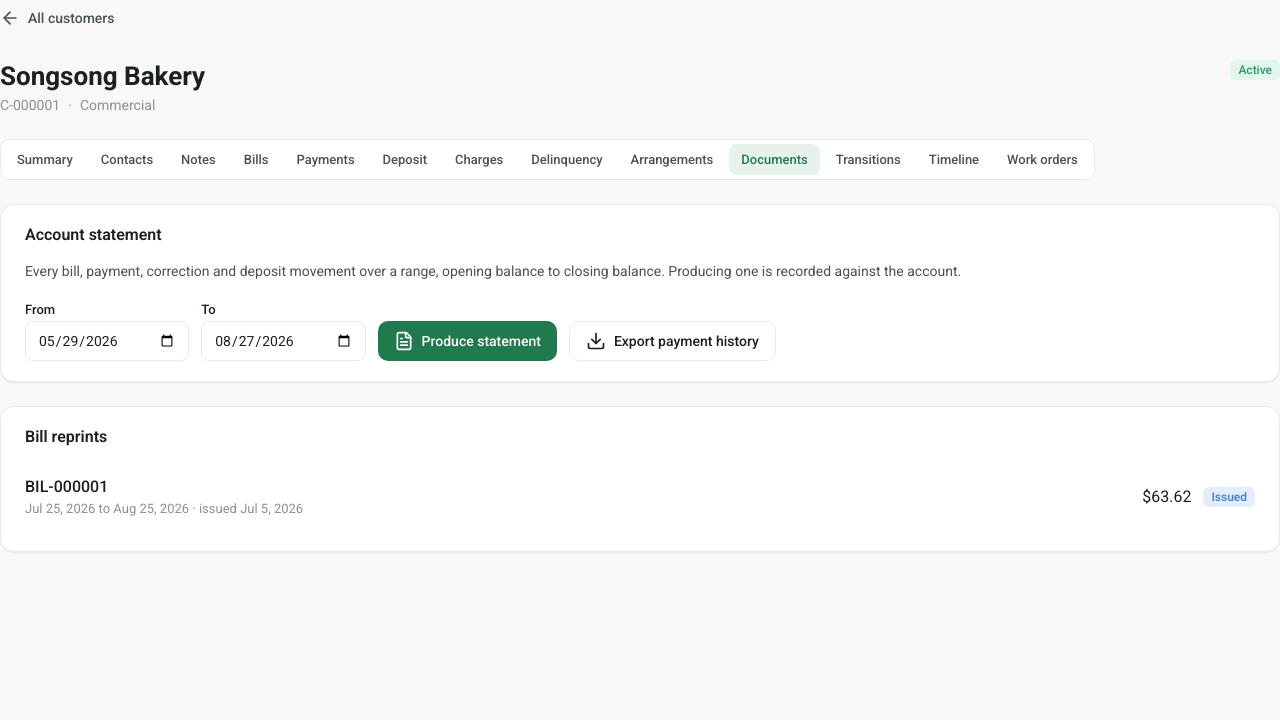
Scenario: the documents tab › says so, loudly, when a statement does not add up
Click the button "Produce statement".
click(467, 341)  # box [378,321,557,361]
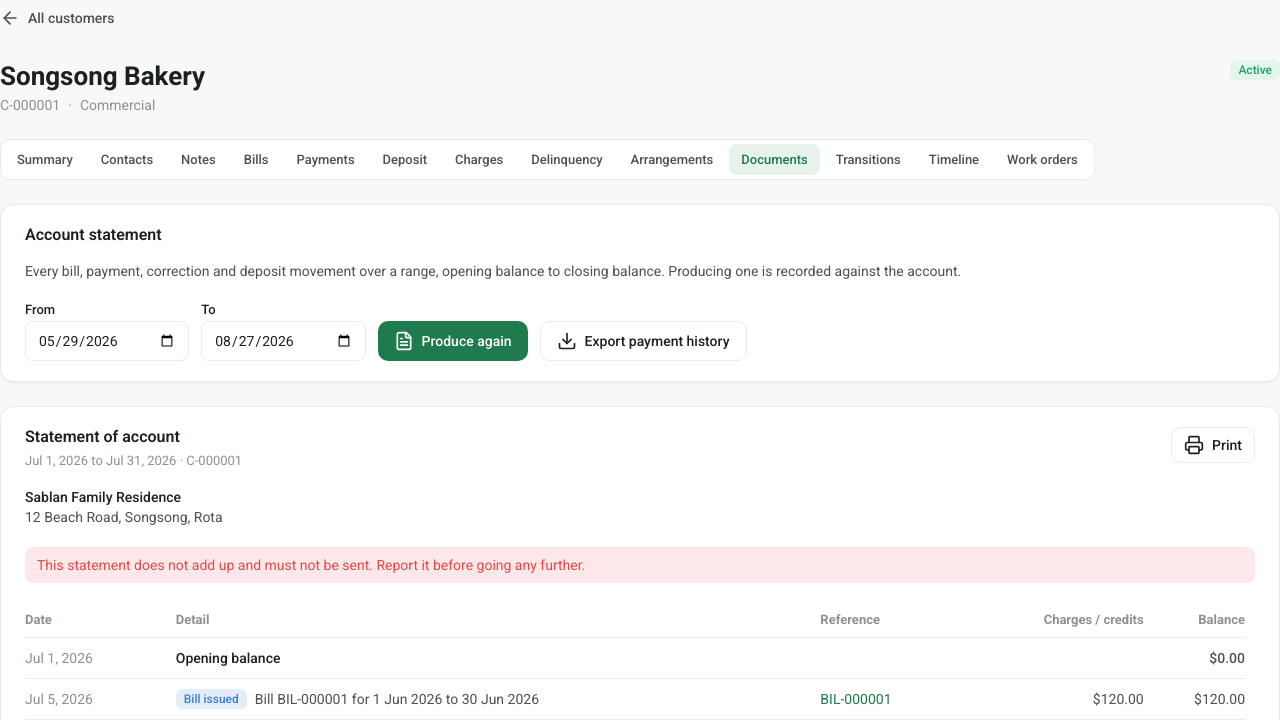
Check: the message shows "does not add up and must not be sent", box [37,556,585,572]
